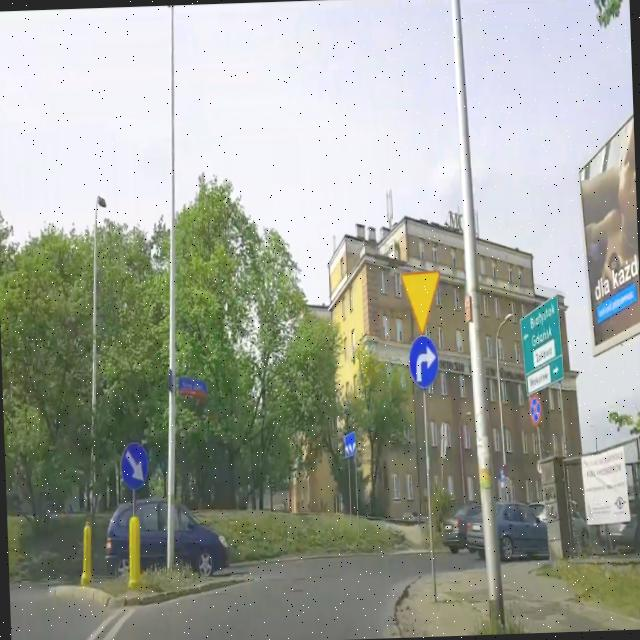Ustap pierwszenstwa: (400, 270, 440, 333)
Zakaz zatrzymywania sie: (529, 396, 542, 424)
